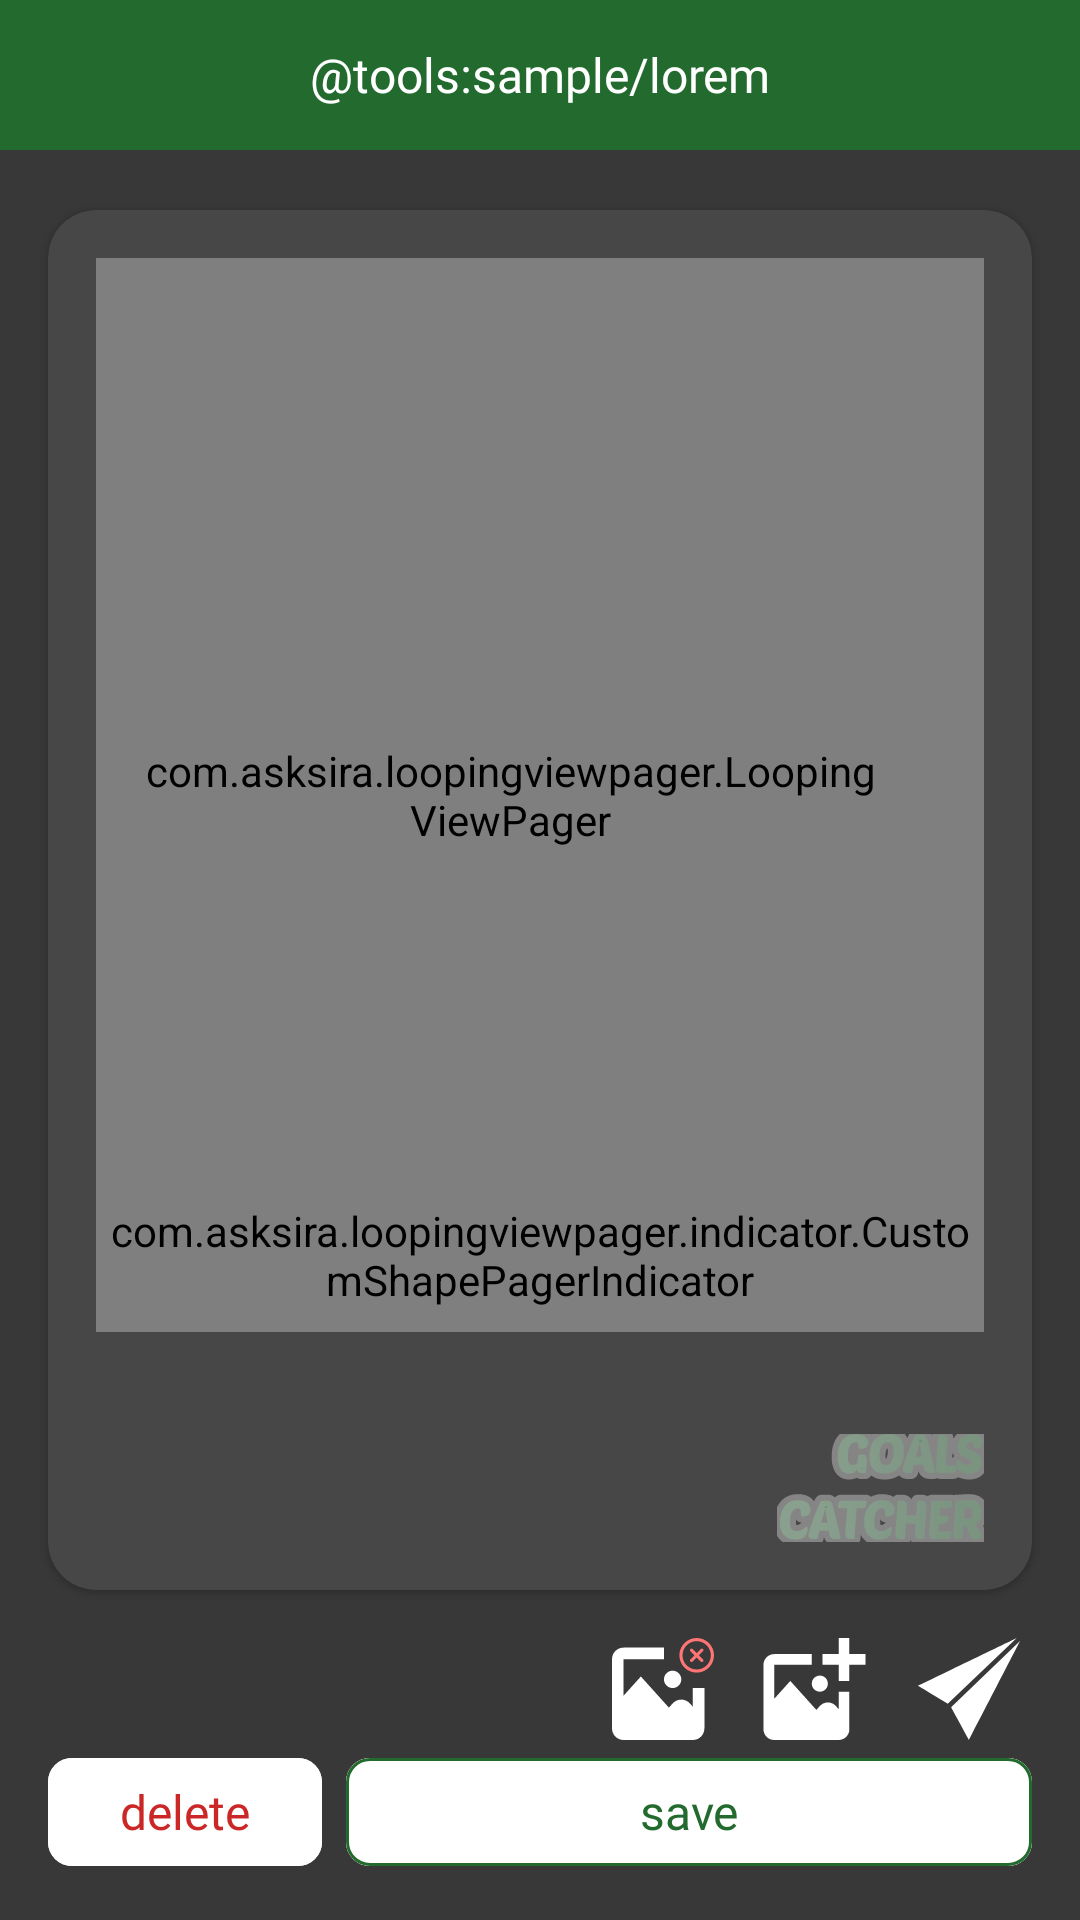

Where icons sit on this 1080w x 1920h app screen, as Rect(x1, y1, x2, y2):
add: Rect(763, 1638, 866, 1740)
delete: Rect(612, 1638, 714, 1740)
share: Rect(918, 1638, 1020, 1740)
